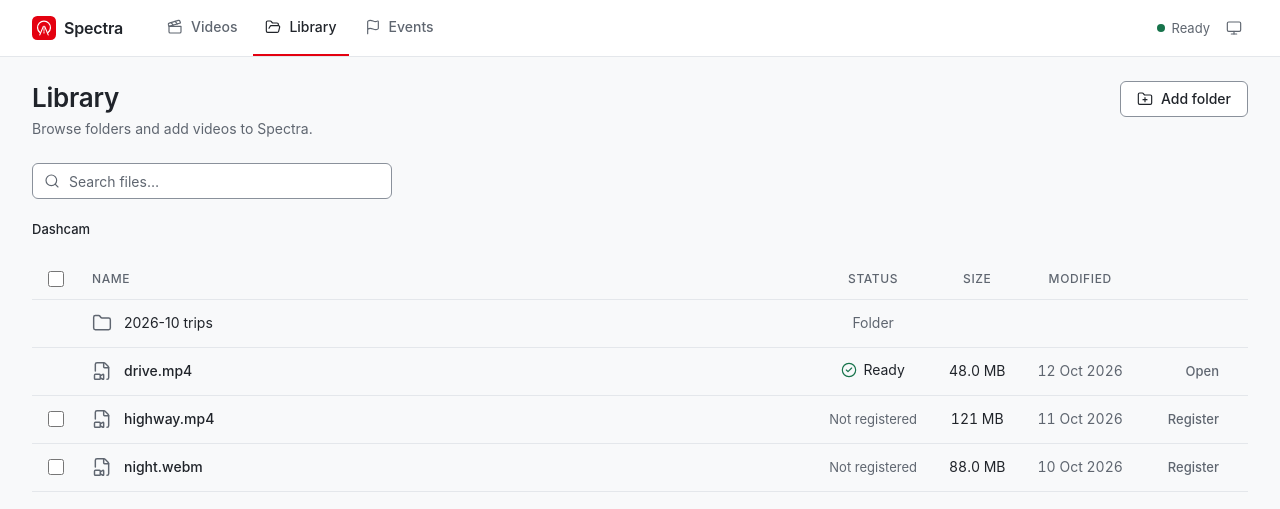
Test case: library browsing › shows modification dates without the time and searches files by name
Expected: the table named "Contents of Dashcam" is shown, x1=32 y1=259 x2=1248 y2=492
Expected: the text "11 Oct 2026" is shown, x1=1038 y1=410 x2=1123 y2=427
Type "high" into the search field named "Filter this folder" at (212, 181), box x1=32 y1=163 x2=392 y2=199
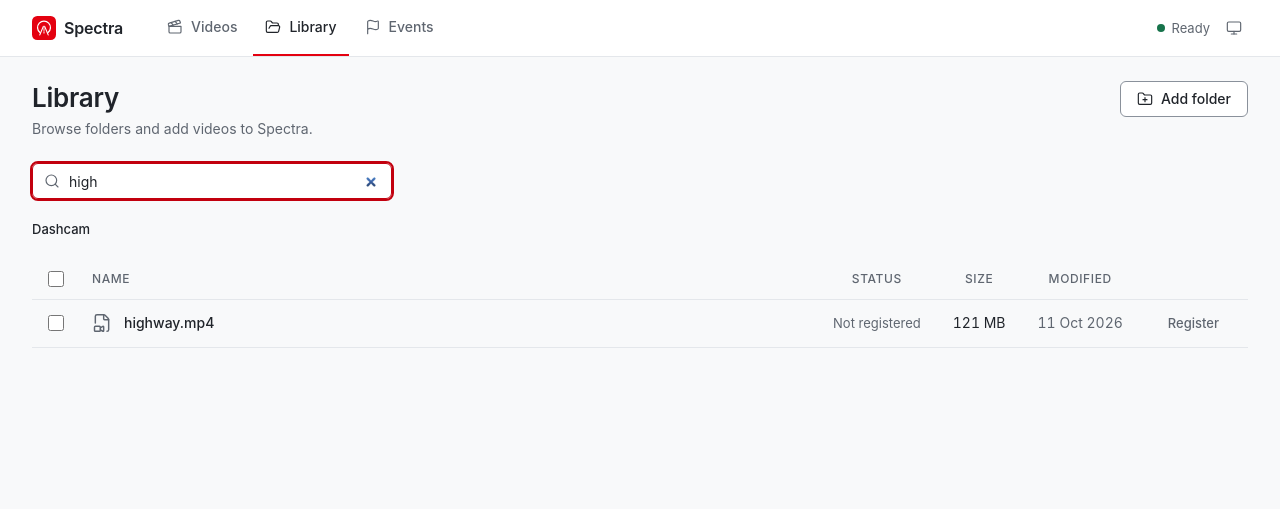
Expected: the row "highway.mp4 Not registered 121 MB 11 Oct 2026 Register" is shown, x1=32 y1=299 x2=1248 y2=347
Now the number of rows is 2, box x1=32 y1=259 x2=1248 y2=299; x1=32 y1=299 x2=1248 y2=347
